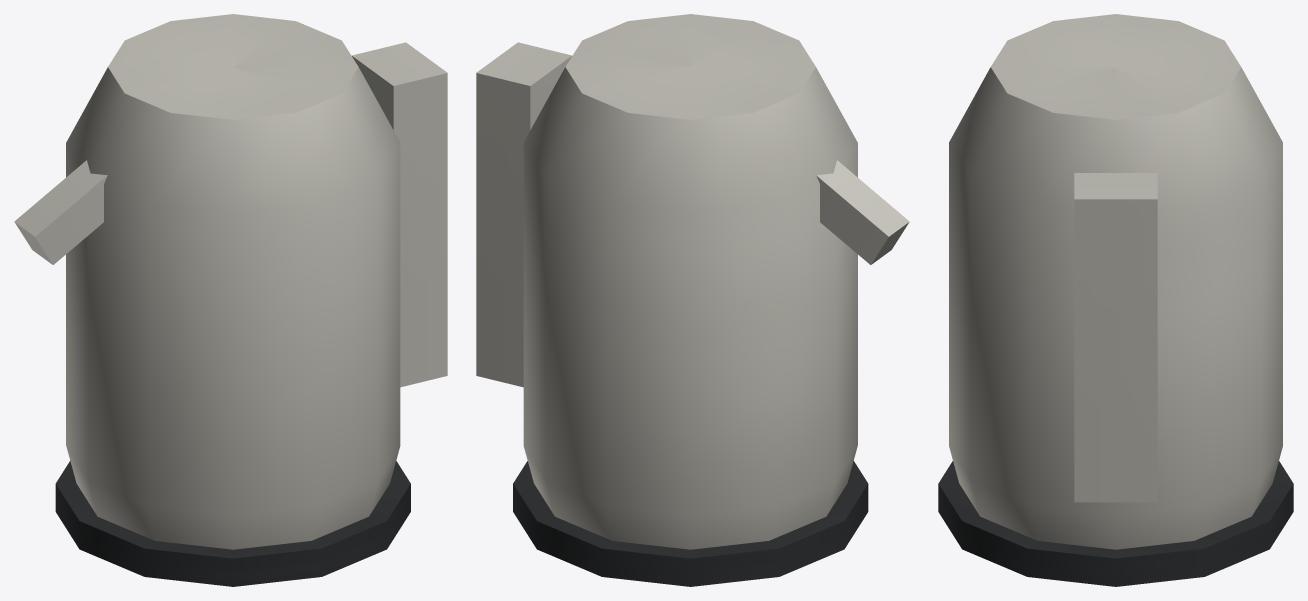
The model's file is kettle_cell.fbx.
The picture shows the model from 3 angles, left to right: view 1: azimuth 30°, elevation 25°; view 2: azimuth 150°, elevation 25°; view 3: azimuth 270°, elevation 25°; orthographic projection.
Visible parts, largest first — view 1: kettle_cell; view 2: kettle_cell; view 3: kettle_cell.
Part boxes in pixels (box(x1,y1,x2,y2)): kettle_cell: box(14, 14, 447, 586); kettle_cell: box(476, 14, 909, 586); kettle_cell: box(938, 14, 1293, 586).
Bounding box in the file's own units: 0.2223 × 0.235 × 0.17.
1 material, 1 textured.
